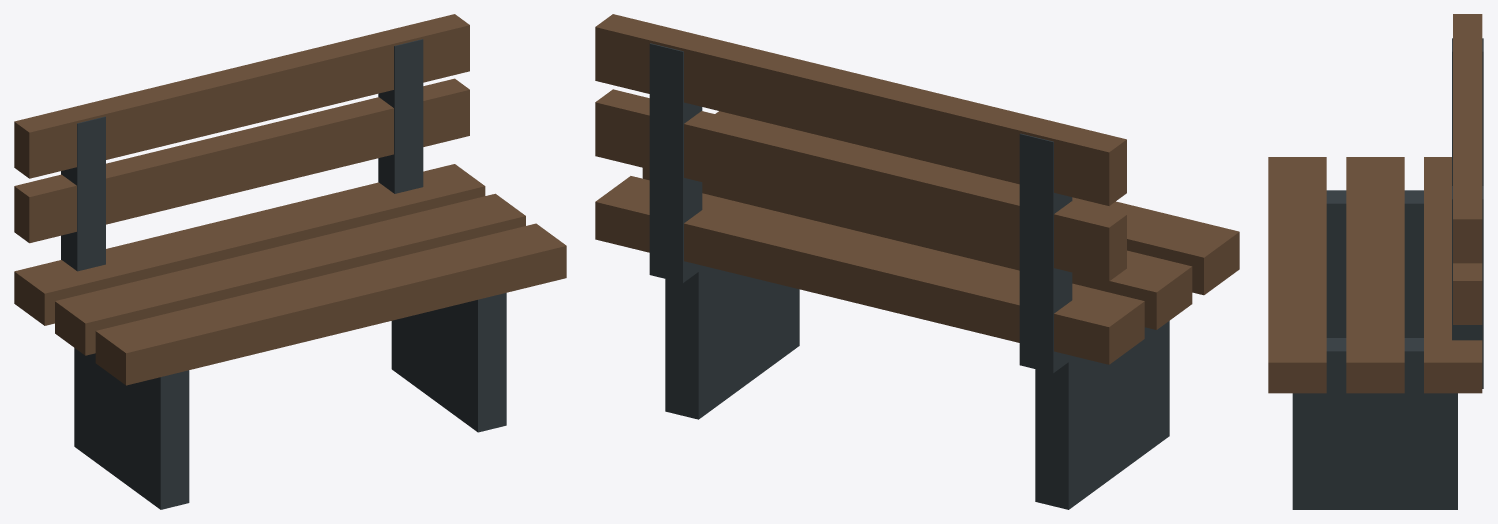
Rendered from bench.glb.
3 views of the same model, side by side, from view 1: azimuth 30°, elevation 25°; view 2: azimuth 150°, elevation 25°; view 3: azimuth 270°, elevation 25° (orthographic). The views are drawn at different scales.
Visible parts, largest first — view 1: bench; view 2: bench; view 3: bench.
Part boxes in pixels (x1,y1,x2,y2): bench: (14,14,566,509); bench: (595,14,1239,509); bench: (1268,14,1483,509).
Bounding box in the file's own units: 1 × 0.71 × 0.4425.
